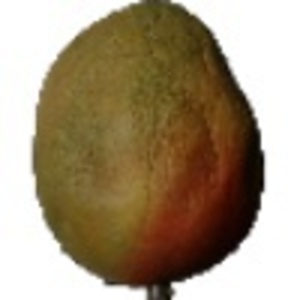mamão: (23, 6, 274, 291)
